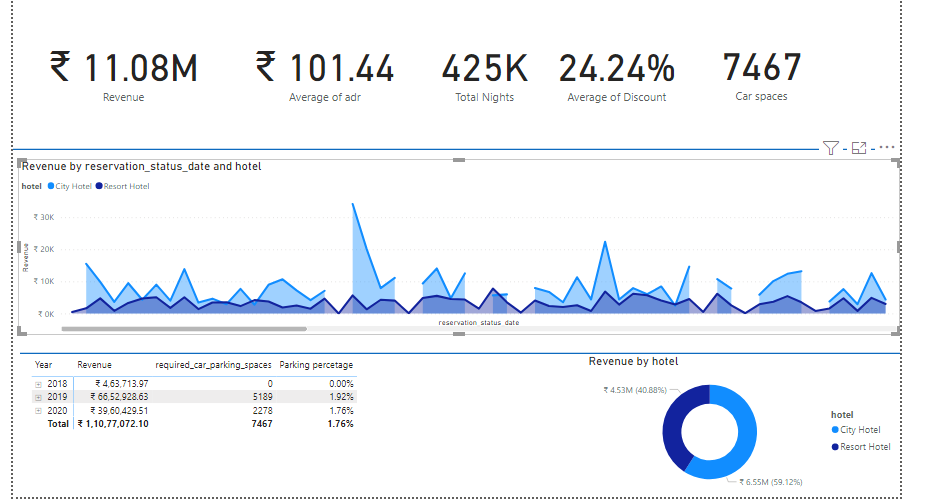

Layout of this report page (visuals, bound fields, positions):
{"tool":"powerbi","page":{"name":"Page 1","canvas":[1280,720],"ordinal":0},"visuals":[{"type":"shape","box":[0,78.4,1269.8,281.2],"z":0},{"type":"shape","box":[10.2,371.6,1269.8,281.2],"z":1000},{"type":"card","fields":{"Values":["Sum(Query1.Revenue)"]},"box":[0,25.6,318.7,156.8],"z":2000},{"type":"card","fields":{"Values":["Avg(Query1.adr)"]},"box":[318.7,51.1,262.5,105.7],"z":3000},{"type":"card","fields":{"Values":["Query1.Total Nights"]},"box":[594.8,51.1,172.1,105.7],"z":4000},{"type":"card","fields":{"Values":["Avg(Query1.Discount)"]},"box":[780.6,51.1,180.7,105.7],"z":5000},{"type":"areaChart","fields":{"Category":["Query1.reservation_status_date"],"Y":["Sum(Query1.Revenue)"],"Series":["Query1.hotel"]},"box":[6.8,243.7,1273.2,254],"z":6000},{"type":"card","fields":{"Values":["Sum(Query1.required_car_parking_spaces)"]},"box":[985.1,51.1,189.2,104],"z":7000},{"type":"donutChart","fields":{"Category":["Query1.hotel"],"Y":["Sum(Query1.Revenue)"]},"box":[824.9,513,455.1,206.2],"z":7001},{"type":"pivotTable","fields":{"Values":["Sum(Query1.Revenue)","Sum(Query1.required_car_parking_spaces)","Query1.Parking percetage"],"Rows":["Query1.Year","Query1.hotel","Query1.reservation_status_date"]},"box":[22.2,513,659.6,206.2],"z":7002}]}

Visuals, with their boxes on the page's 1280x720 design canvas (x1, y1, x2, y2). These are canvas units, not pixel positions in the 925x503 screenshot, which may show the page scaled, cropped or inside an application window:
shape: (0,78,1270,360)
shape: (10,372,1280,653)
card - Sum(Query1.Revenue): (0,26,319,182)
card - Avg(Query1.adr): (319,51,581,157)
card - Query1.Total Nights: (595,51,767,157)
card - Avg(Query1.Discount): (781,51,961,157)
areaChart - Query1.reservation_status_date x Sum(Query1.Revenue): (7,244,1280,498)
card - Sum(Query1.required_car_parking_spaces): (985,51,1174,155)
donutChart - Query1.hotel x Sum(Query1.Revenue): (825,513,1280,719)
pivotTable - Sum(Query1.Revenue) x Sum(Query1.required_car_parking_spaces): (22,513,682,719)
